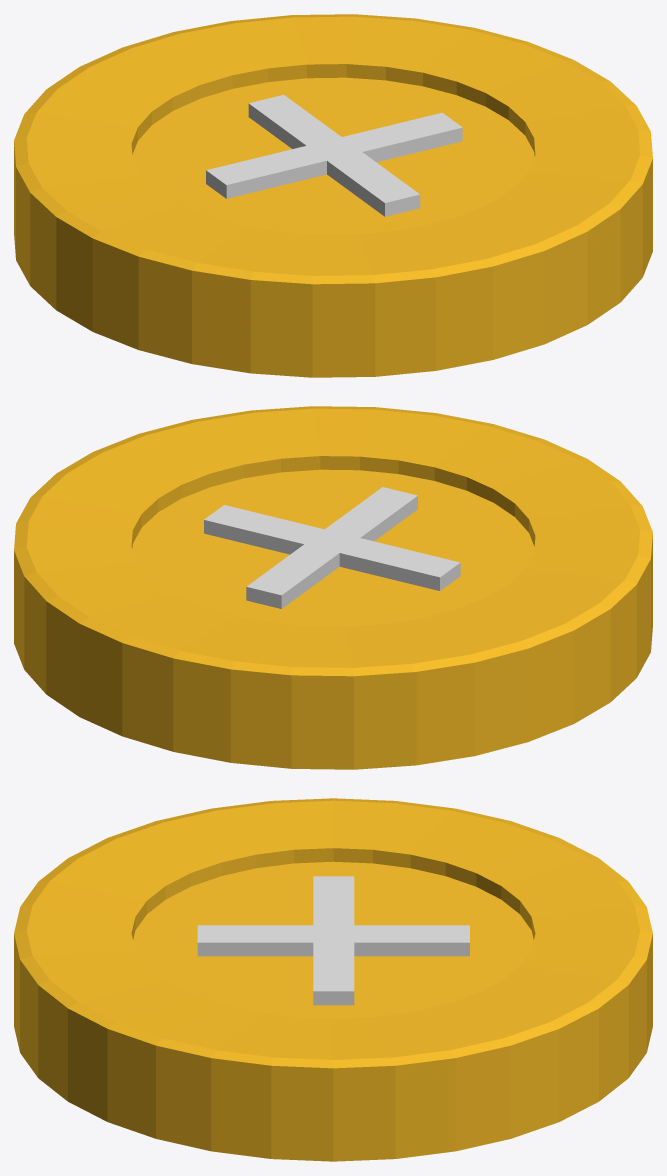
The model's file is COIN.fbx.
3 views of the same model, one above another, from view 1: azimuth 30°, elevation 25°; view 2: azimuth 150°, elevation 25°; view 3: azimuth 270°, elevation 25° (orthographic).
Visible parts, largest first — view 1: Cylinder, Cube; view 2: Cylinder, Cube; view 3: Cylinder, Cube.
Boxes of the visible parts, x1,y1,x2,y2 form: Cylinder: [14, 14, 652, 377]; Cube: [206, 94, 462, 216]; Cylinder: [14, 406, 652, 769]; Cube: [204, 487, 460, 608]; Cylinder: [14, 798, 652, 1161]; Cube: [197, 876, 469, 1005].
Bounding box in the file's own units: 469 × 469 × 80.46.
